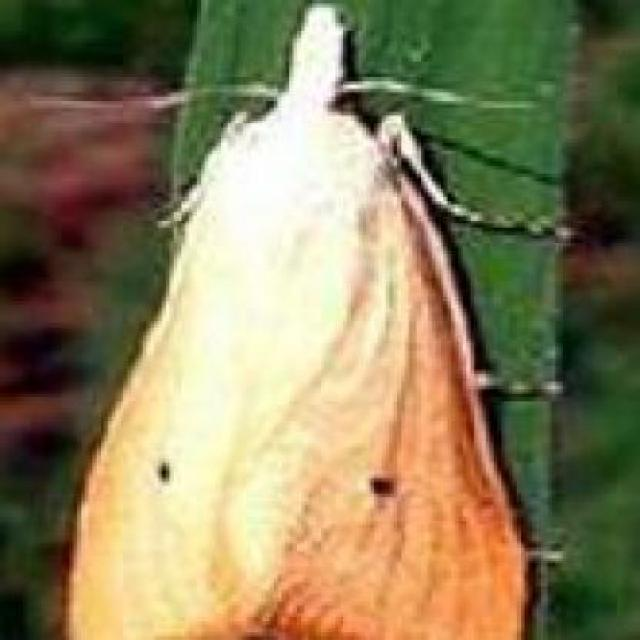stem-borer: (60, 1, 572, 638)
